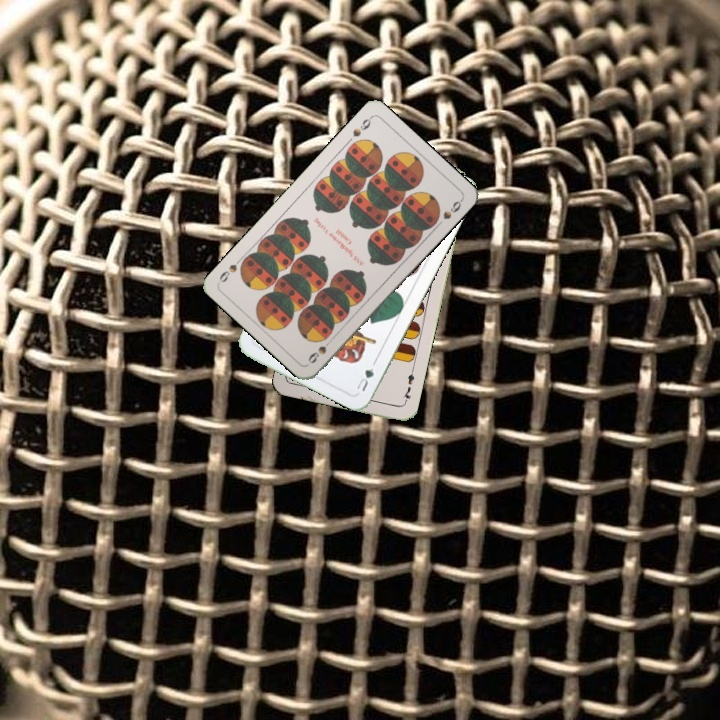E7: (399, 366, 417, 406)
GU: (353, 358, 378, 394)
S9: (304, 334, 336, 366), (348, 113, 374, 140)
